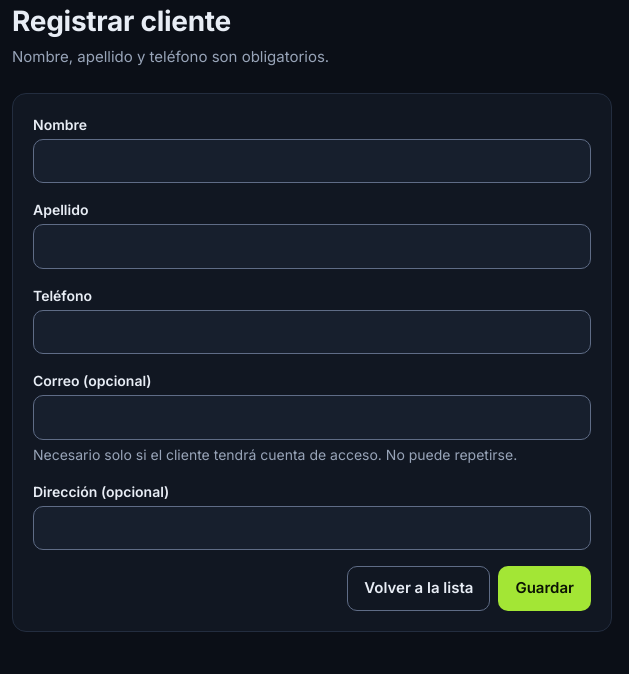
Test: ClienteForm › muestra el campo que falta cuando la API responde 400
Type "Clara" into the field labelled "Nombre" at (312, 161), box x1=33 y1=138 x2=591 y2=183
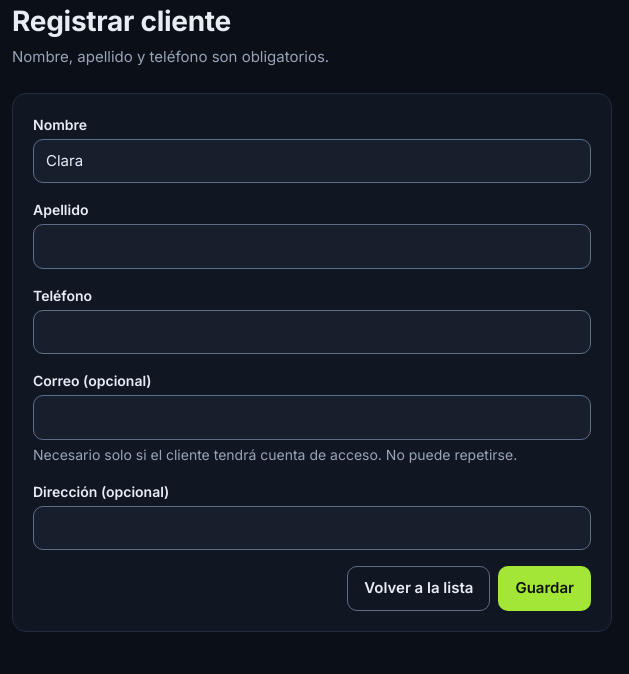
Type "Prueba" into the field labelled "Apellido" at (312, 246), box x1=33 y1=224 x2=591 y2=268
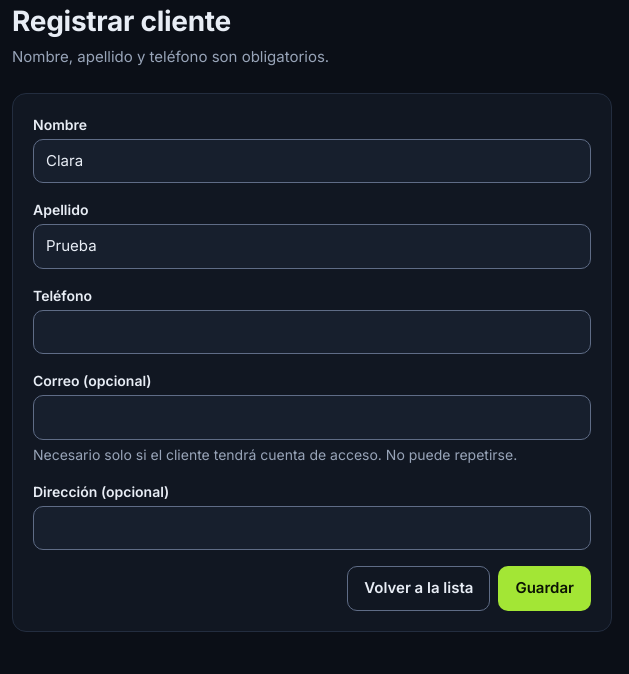
Click the button "Guardar" at (545, 588), box x1=498 y1=566 x2=591 y2=610
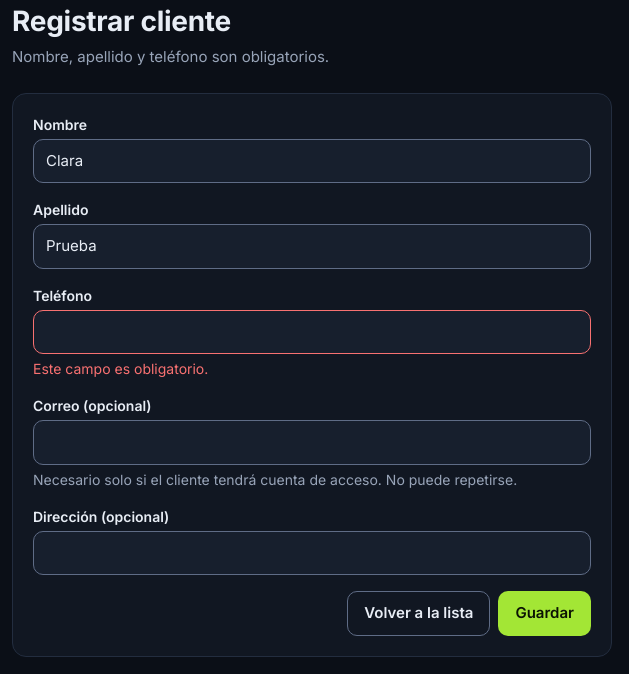
Check: the text "Este campo es obligatorio." is shown, box x1=33 y1=360 x2=208 y2=377
